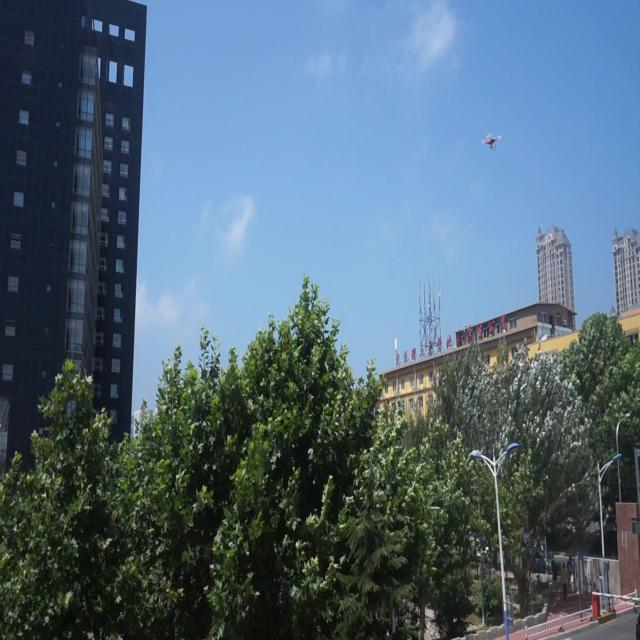drone: (482, 132, 501, 151)
